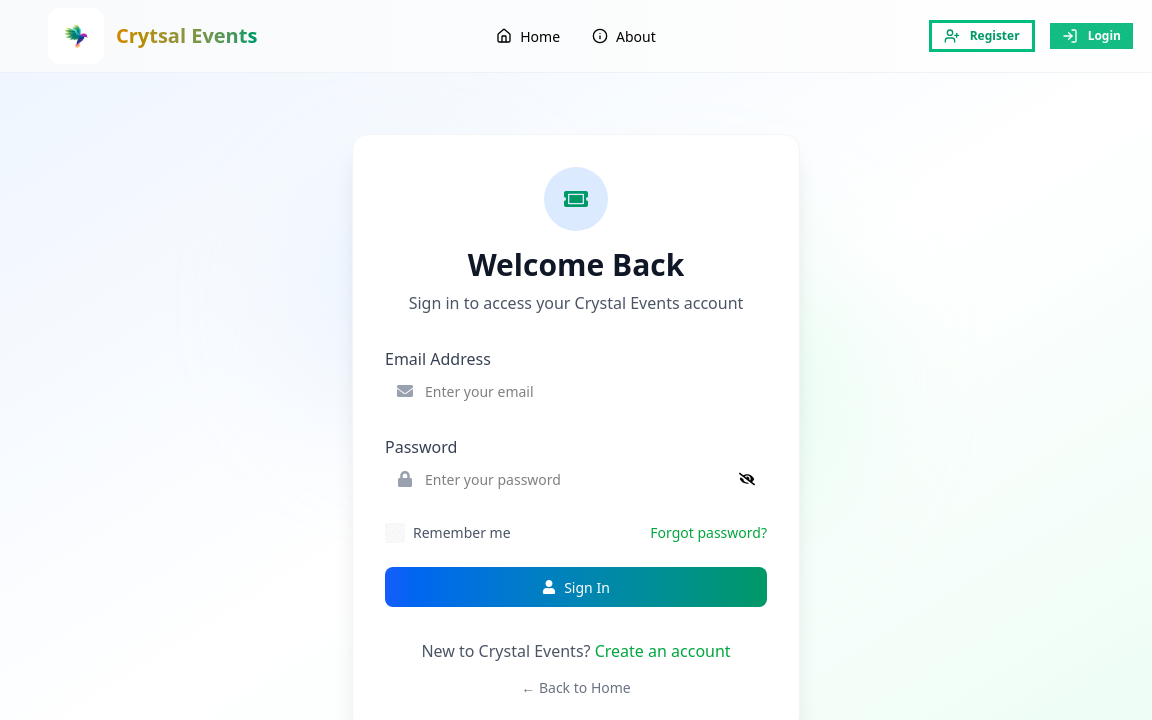
Test: Login Component › should handle login failure
This screenshot has width=1152, height=720.
Type "invalid@example.com" into the field with test id "login-email-input" at (576, 391), box [385, 371, 767, 411]
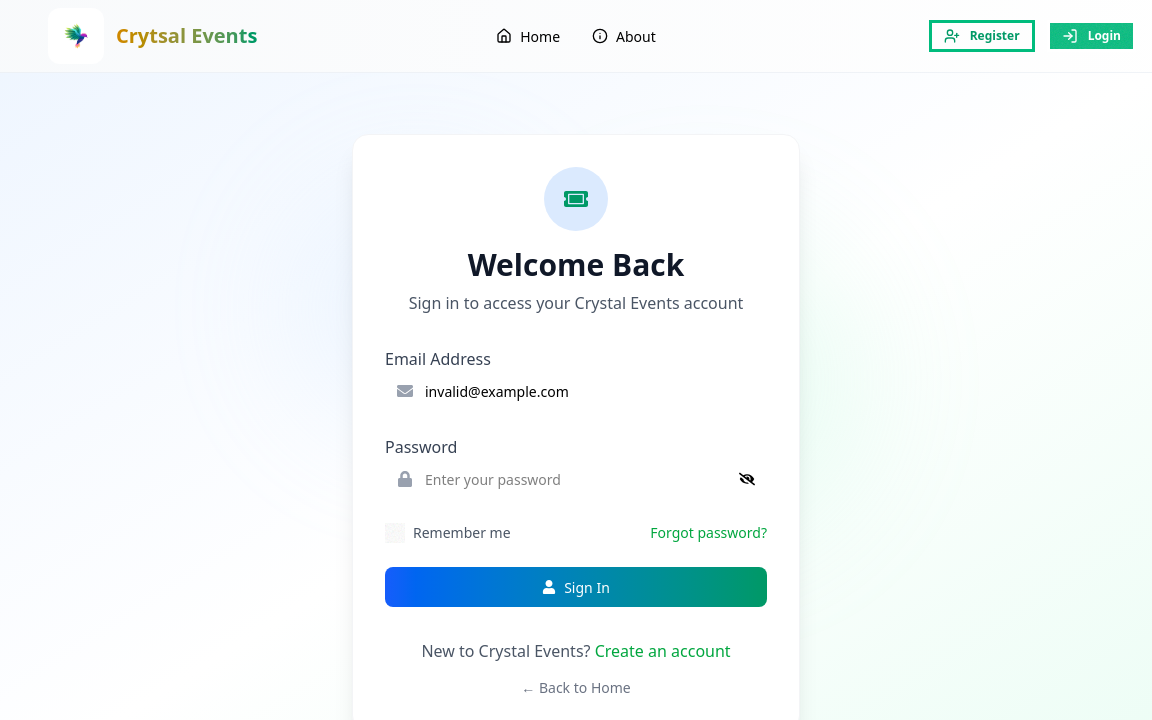
Type "wrongpassword" into the password field with test id "login-password-input" at (576, 479), box [385, 459, 767, 499]
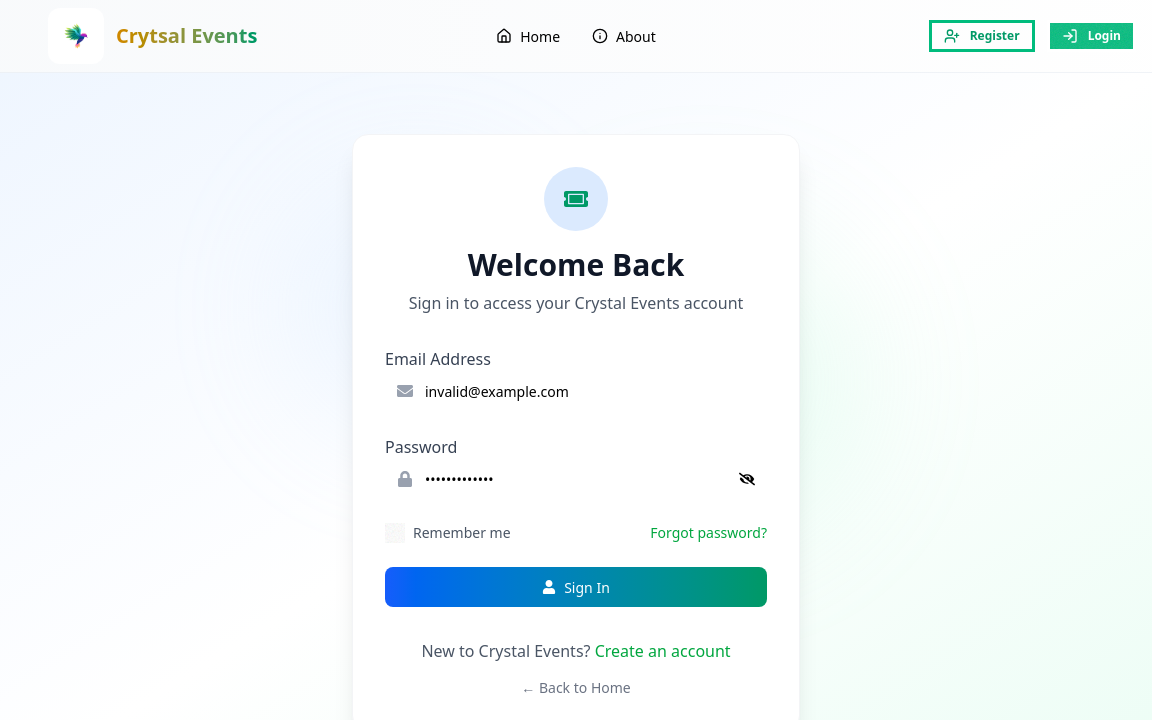
Click the button with test id "login-submit-button" at (576, 587), box [385, 567, 767, 607]
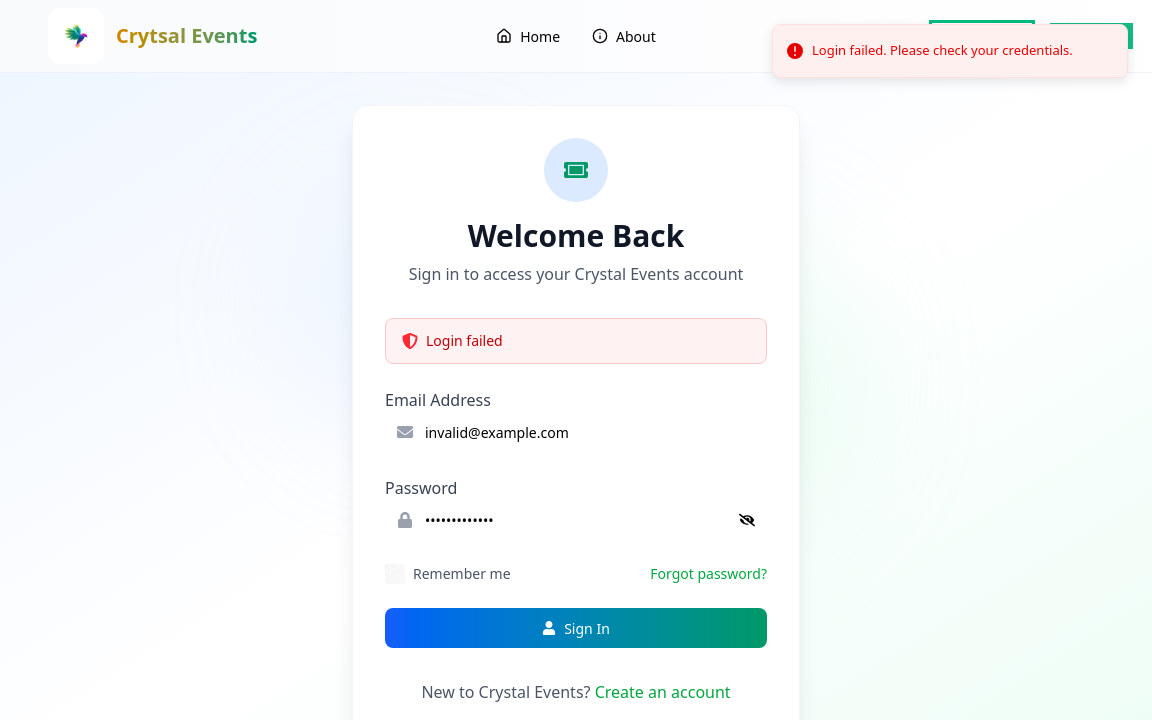
Expected: the element with test id "login-error" is shown, [385, 318, 767, 364]
